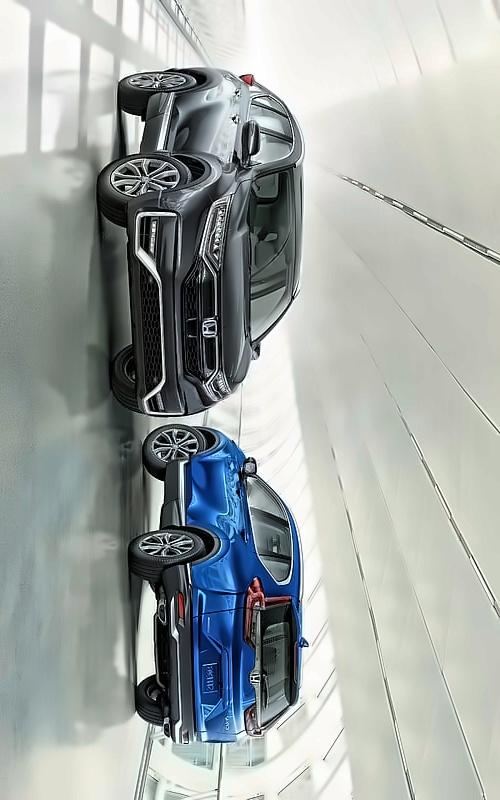Car hood: (217, 178, 253, 391)
Driver-s door - -F-R-: (131, 111, 309, 166)
Fender - -F-R-: (137, 147, 245, 205)
Fender - -R-R-: (162, 64, 253, 99)
Front bumper: (124, 186, 214, 417)
Headlight - -L-: (202, 367, 233, 402)
Headlight - -R-: (198, 193, 237, 273)
Passenger-s door - -R-R-: (139, 84, 302, 134)
Side bumper - -R-: (133, 87, 179, 155)
Side mirror - -R-: (237, 116, 261, 173)
